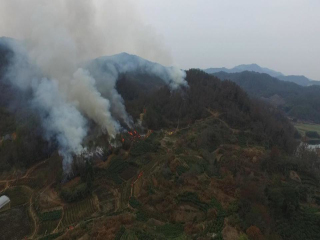smoke: (6, 9, 190, 177)
